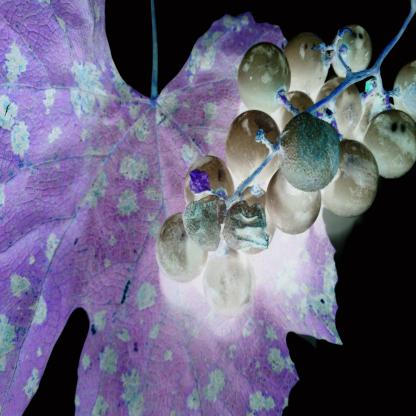grape leaf black rot: (0, 15, 163, 416)
